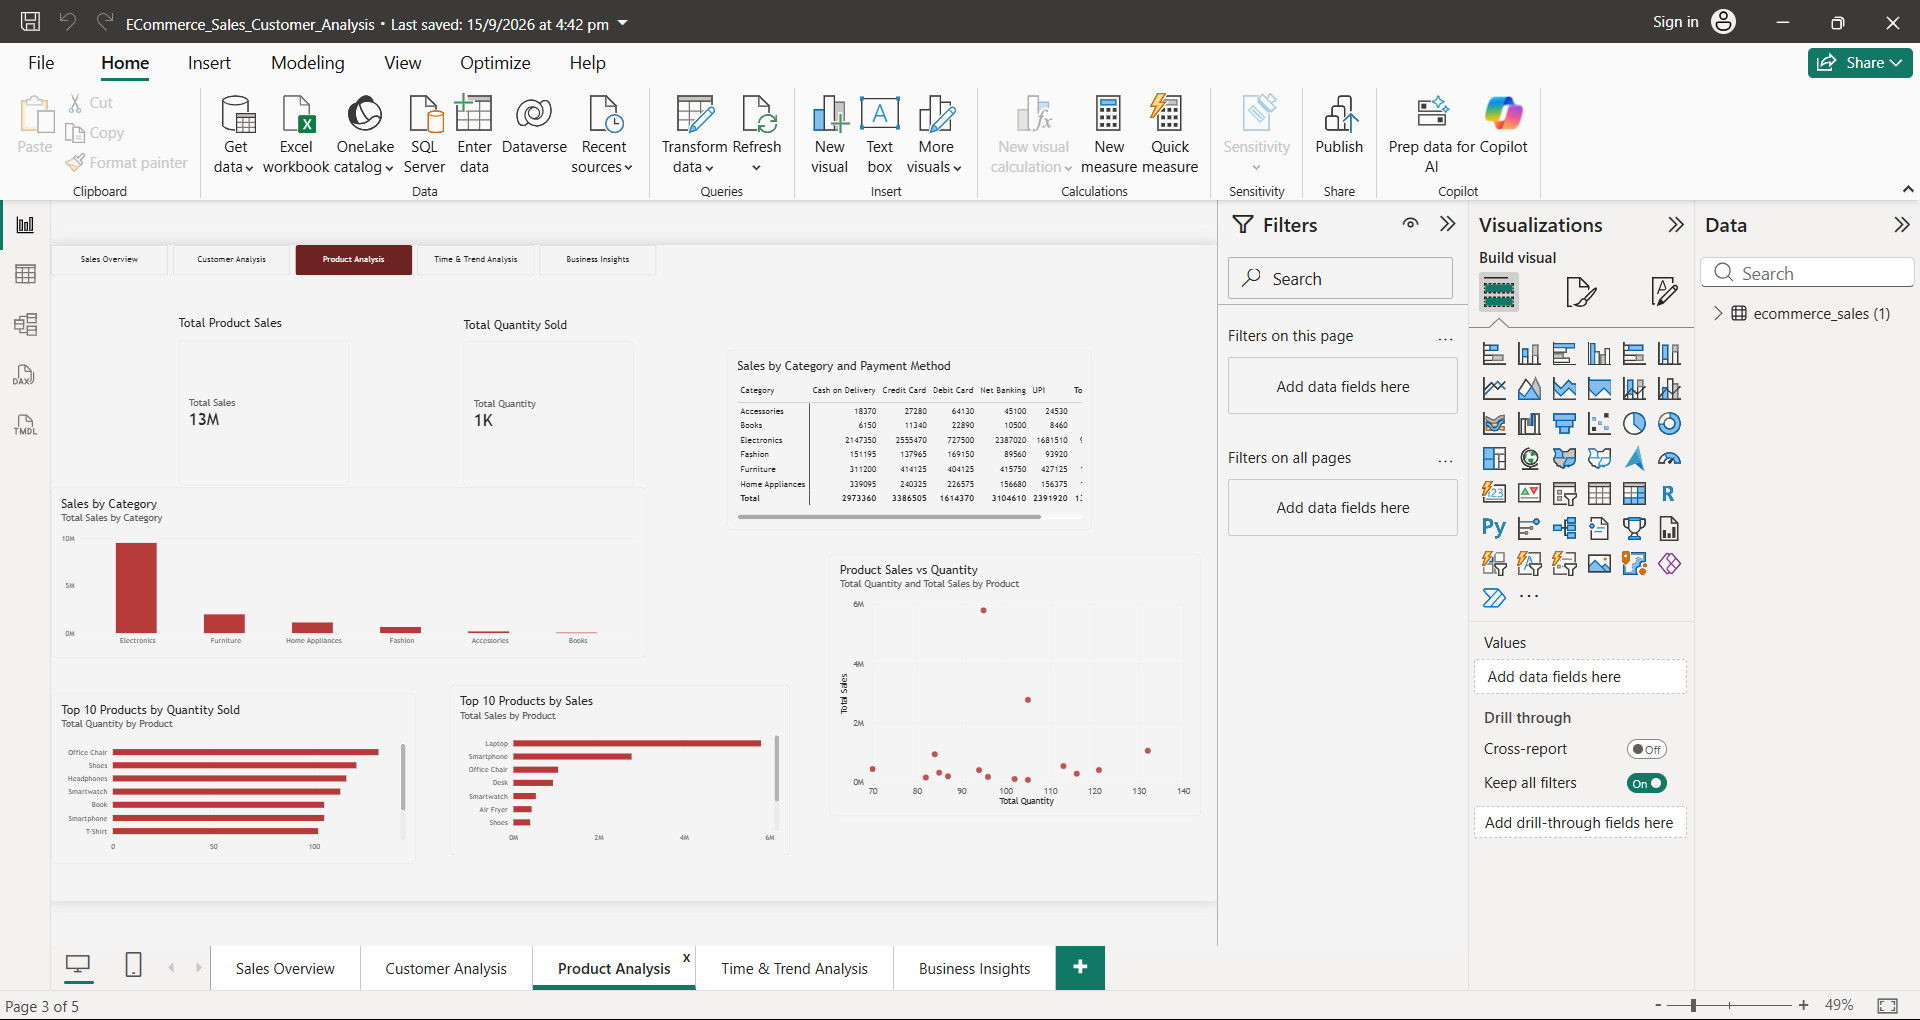

The dashboard page shown, as its layout file describes it:
{"tool":"powerbi","page":{"name":"Product Analysis","canvas":[1920,1080],"ordinal":2},"visuals":[{"type":"cardVisual","title":"Total Product Sales","fields":{"Data":["ecommerce_sales (1).Total Sales"]},"box":[209.5,117.6,280,280],"z":0},{"type":"cardVisual","title":"Total Quantity Sold","fields":{"Data":["ecommerce_sales (1).Total Quantity"]},"box":[679.9,119.7,280,280],"z":1000},{"type":"clusteredColumnChart","title":"Sales by Category","fields":{"Category":["ecommerce_sales (1).Category"],"Y":["ecommerce_sales (1).Total Sales"]},"box":[0,399.8,979.8,279.9],"z":2000},{"type":"clusteredBarChart","title":"Top 10 Products by Sales","fields":{"Category":["ecommerce_sales (1).Product"],"Y":["ecommerce_sales (1).Total Sales"]},"box":[656.4,724.8,559.9,279.9],"z":3000},{"type":"clusteredBarChart","title":"Top 10 Products by Quantity Sold","fields":{"Category":["ecommerce_sales (1).Product"],"Y":["ecommerce_sales (1).Total Quantity"]},"box":[0,739.8,601,279.9],"z":4000},{"type":"pivotTable","title":"Sales by Category and Payment Method","fields":{"Columns":["ecommerce_sales (1).Payment_Method"],"Rows":["ecommerce_sales (1).Category"],"Values":["ecommerce_sales (1).Total Sales"]},"box":[1113.9,173.2,601,296.4],"z":5000},{"type":"scatterChart","title":"Product Sales vs Quantity","fields":{"Category":["ecommerce_sales (1).Product"],"X":["ecommerce_sales (1).Total Quantity"],"Y":["ecommerce_sales (1).Total Sales"]},"box":[1282.9,508.9,611.3,432.2],"z":6000},{"type":"pageNavigator","box":[0,0,1000,50],"z":6001}]}

Visuals, with their boxes on the page's 1920x1080 design canvas (x1, y1, x2, y2). These are canvas units, not pixel positions in the 1920x1020 screenshot, which may show the page scaled, cropped or inside an application window:
"Total Product Sales" cardVisual: select_region(210, 118, 490, 398)
"Total Quantity Sold" cardVisual: select_region(680, 120, 960, 400)
"Sales by Category" clusteredColumnChart: select_region(0, 400, 980, 680)
"Top 10 Products by Sales" clusteredBarChart: select_region(656, 725, 1216, 1005)
"Top 10 Products by Quantity Sold" clusteredBarChart: select_region(0, 740, 601, 1020)
"Sales by Category and Payment Method" pivotTable: select_region(1114, 173, 1715, 470)
"Product Sales vs Quantity" scatterChart: select_region(1283, 509, 1894, 941)
pageNavigator: select_region(0, 0, 1000, 50)
